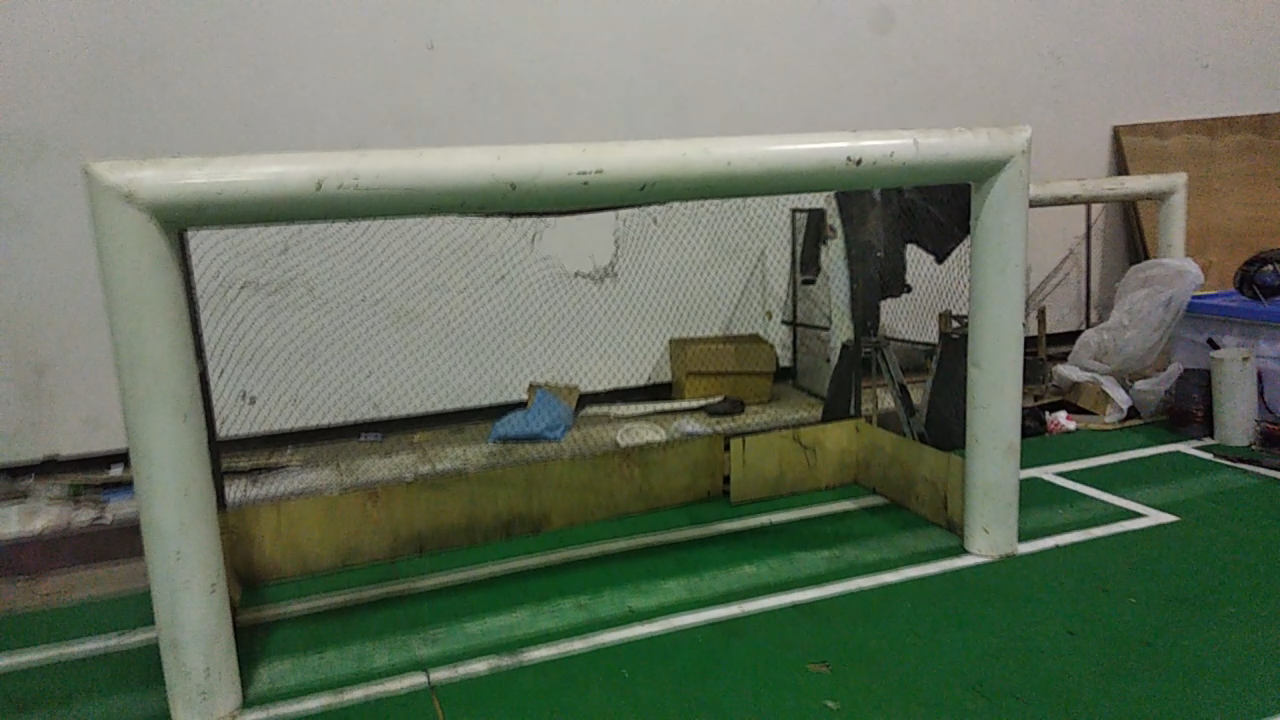gawang: (60, 113, 1047, 716)
